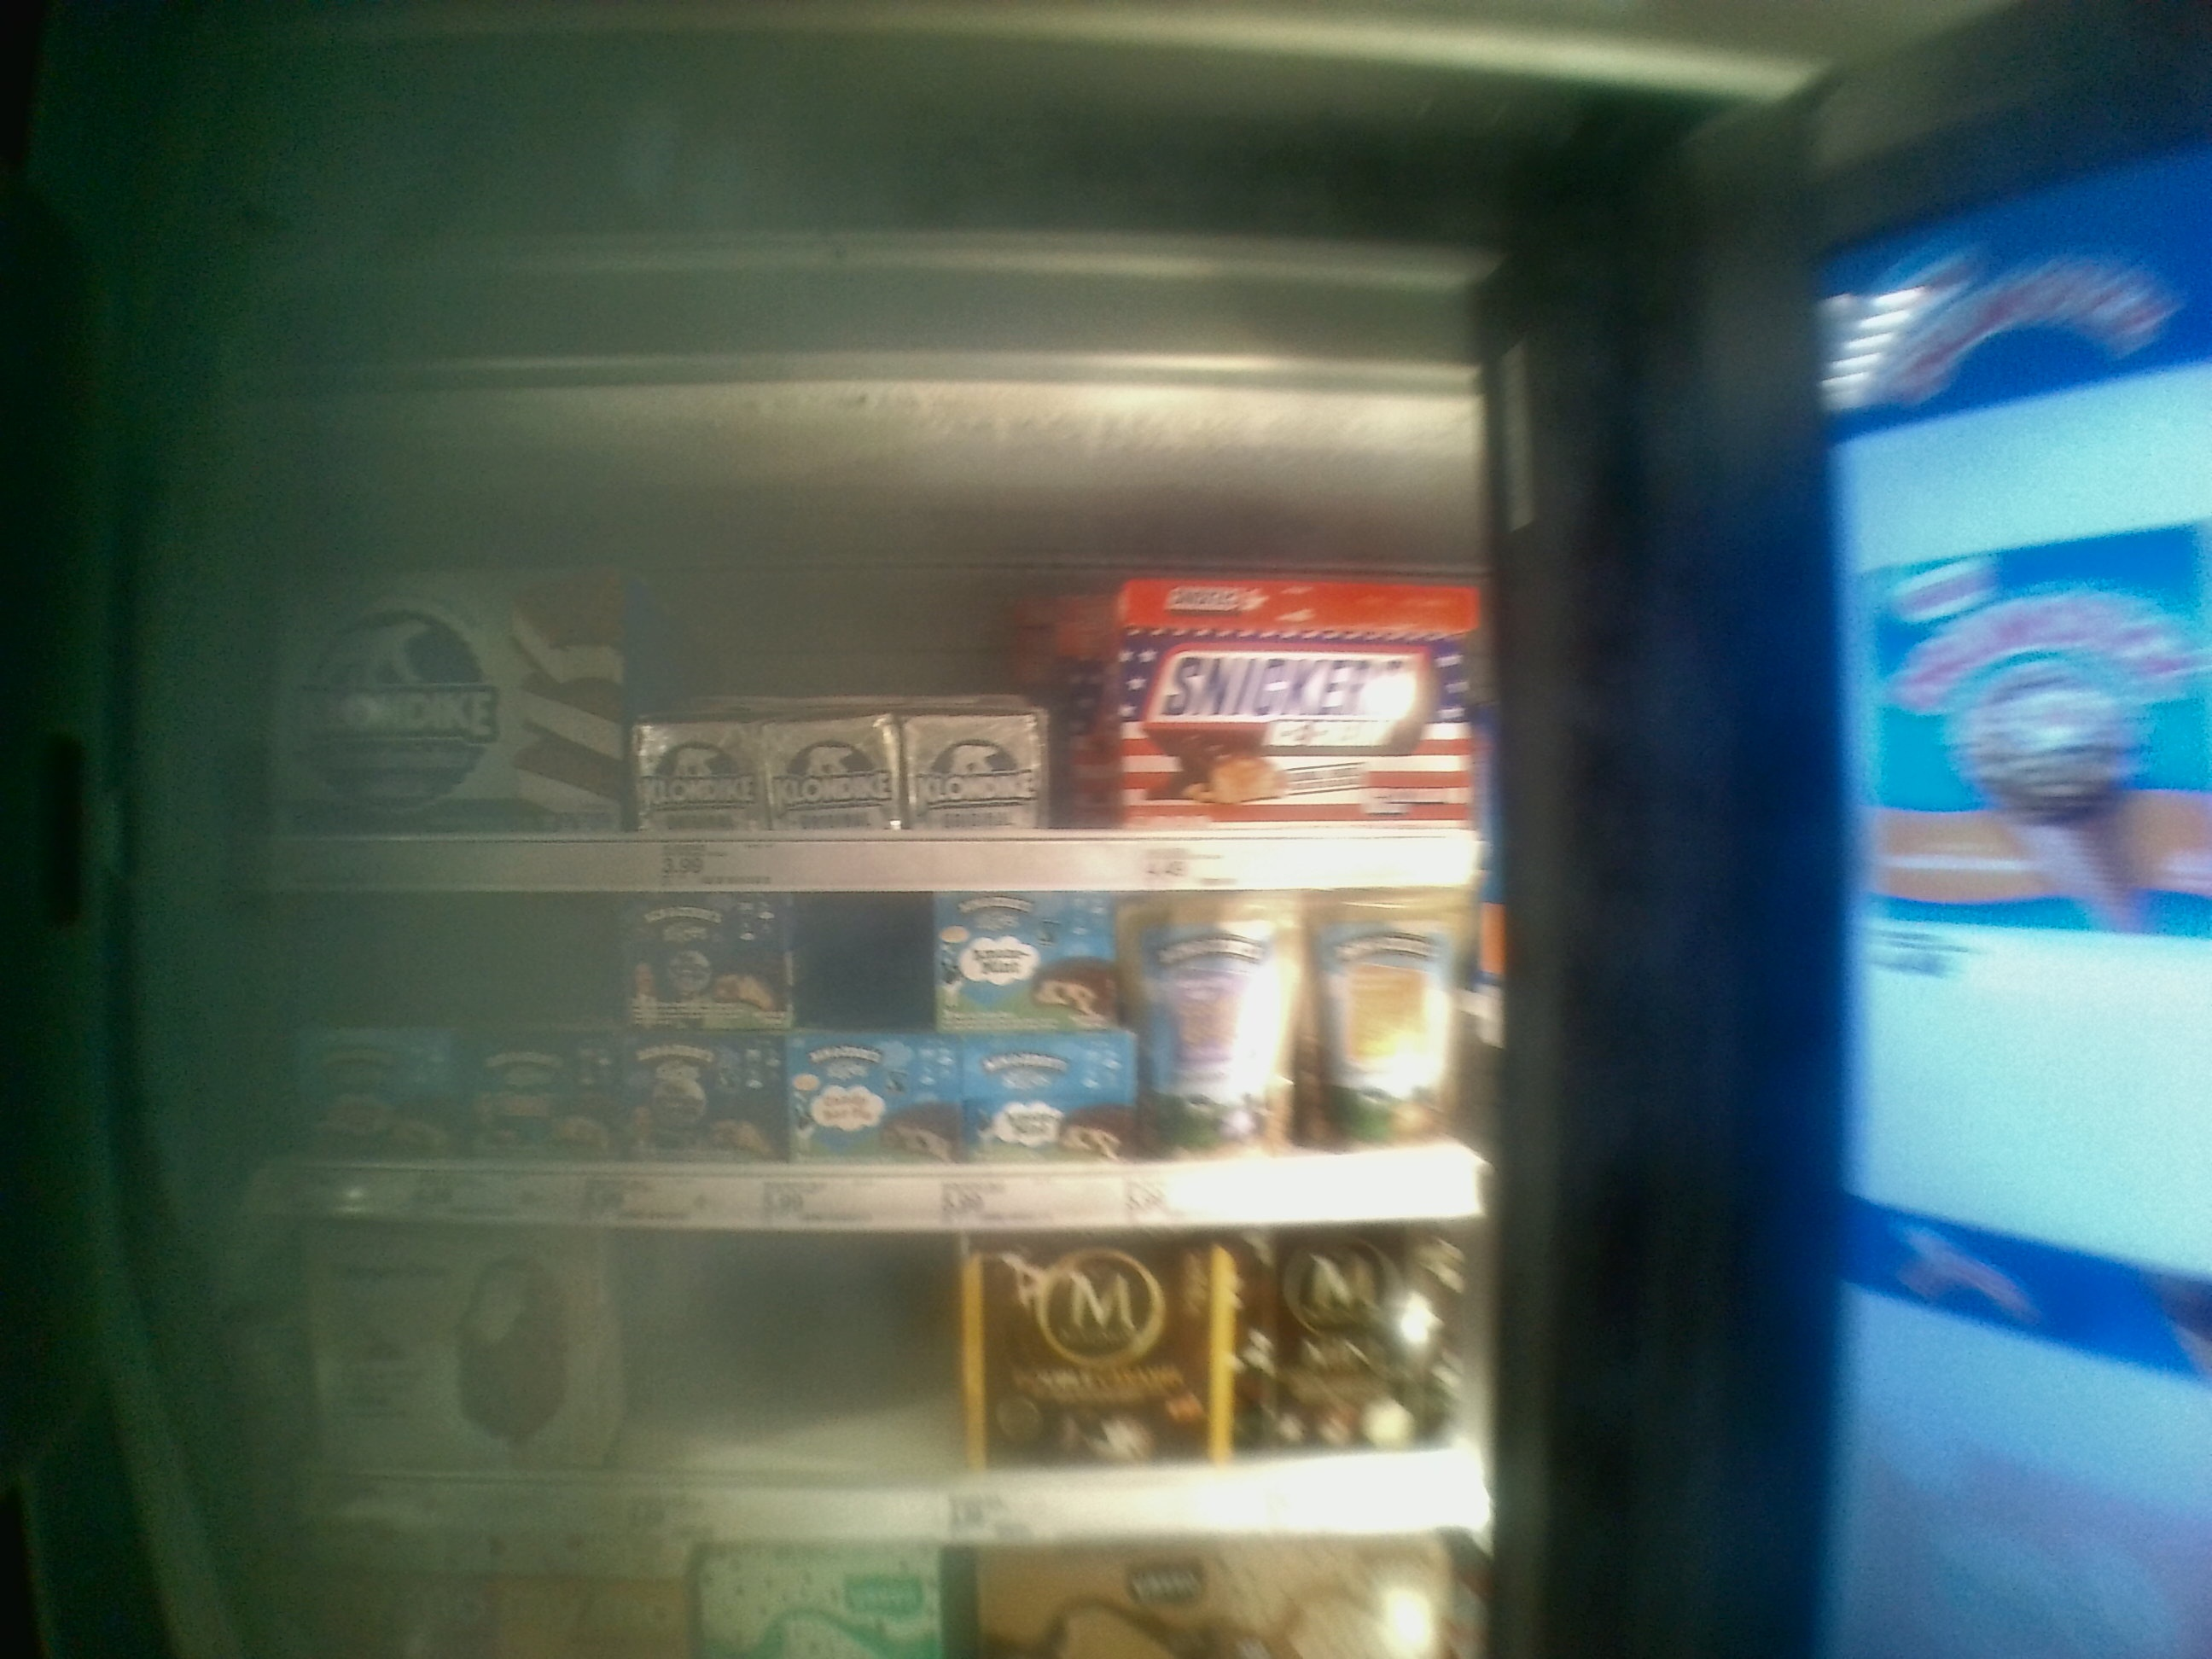ice-cream-shelf: (239, 397, 1491, 894), (233, 894, 1498, 1223), (225, 1223, 1503, 1535)
